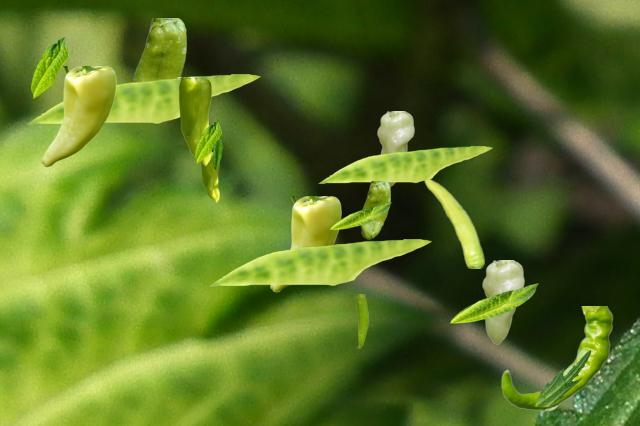green_chili: (501, 306, 612, 410), (41, 66, 115, 166), (270, 196, 340, 291), (424, 179, 483, 267), (481, 260, 523, 343), (133, 18, 185, 81), (177, 77, 210, 164), (376, 111, 413, 185), (360, 181, 389, 238), (200, 152, 218, 201), (355, 294, 367, 347)
